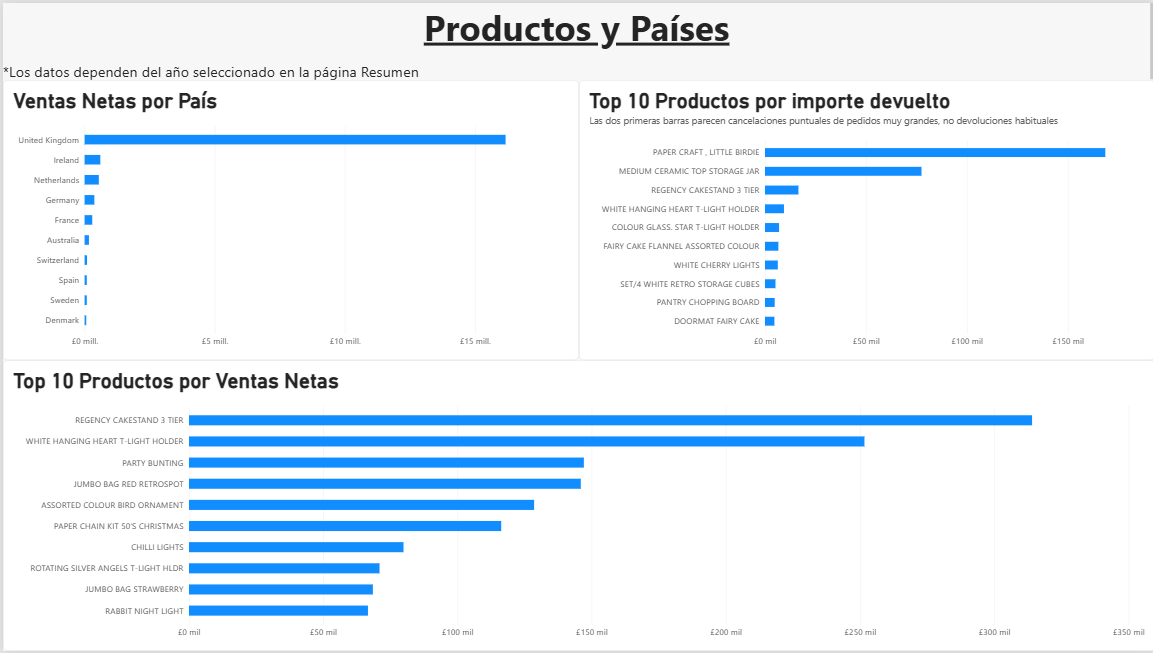

This screenshot's page, from the dashboard's own definition file:
{"tool":"powerbi","page":{"name":"Productos y Países","canvas":[1920,1080],"ordinal":1},"visuals":[{"type":"clusteredBarChart","title":"Top 10 Productos por Ventas Netas","fields":{"Category":["Ventas.Description"],"Y":["Ventas.Ventas Netas"]},"box":[0,595,1920,485],"z":0},{"type":"clusteredBarChart","title":"Ventas Netas por País","fields":{"Category":["Ventas.Country"],"Y":["Ventas.Ventas Netas"]},"box":[0,128.3,960,466.7],"z":1},{"type":"clusteredBarChart","title":"Top 10 Productos por importe devuelto","fields":{"Category":["Ventas.Description"],"Y":["Ventas.Devoluciones"]},"box":[960,128.3,960,466.7],"z":2},{"type":"textbox","box":[0,0,1920,128.3],"z":3}]}

Visuals, with their boxes in screenshot pixels (x1, y1, x2, y2), scaled from the page's 1920x1080 canvas onto the 1153x653 screenshot:
"Top 10 Productos por Ventas Netas" clusteredBarChart: 0:360:1152:652
"Ventas Netas por País" clusteredBarChart: 0:78:576:360
"Top 10 Productos por importe devuelto" clusteredBarChart: 576:78:1152:360
textbox: 0:0:1152:78
